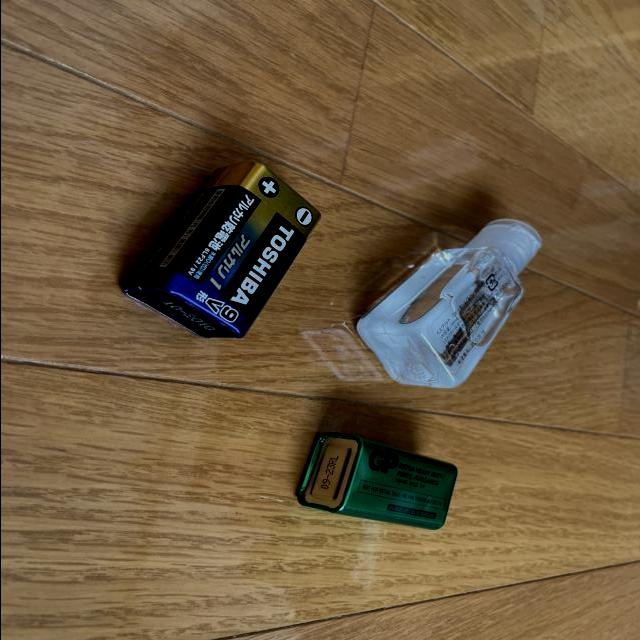9V: (118, 161, 319, 338), (294, 430, 458, 532)
